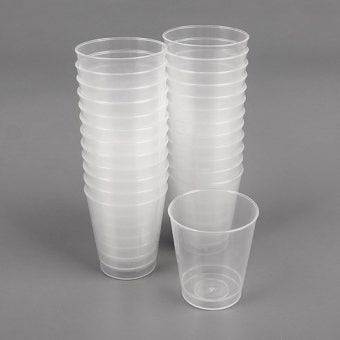plastic: (75, 36, 169, 276)
